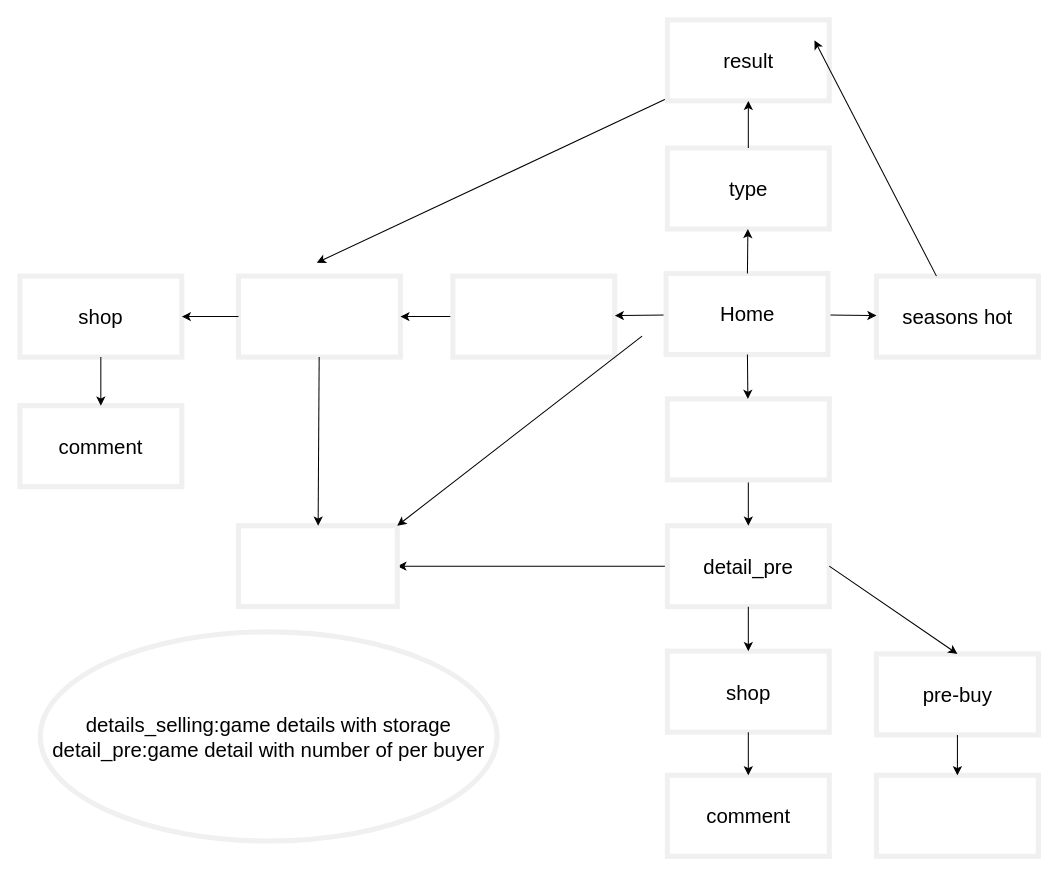
Image size: 1059x876. Some labels were removed from this diagram. Each missing label, with the centre of its shape:
"accept-nofication" belongs at point 956,815.
"details_selling" belongs at point 318,316.
"Follow" belongs at point 317,566.
"incoming" belongs at point 747,439.
"recommand" belongs at point 533,316.
